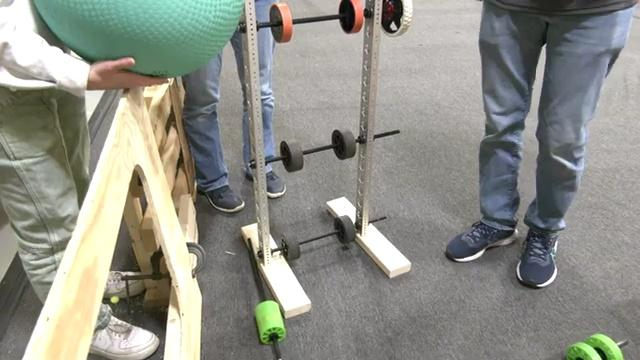ALGAE: (32, 0, 245, 78)
